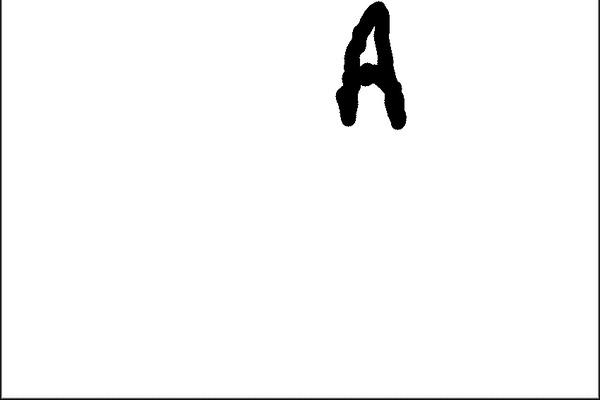A: (323, 0, 417, 138)
